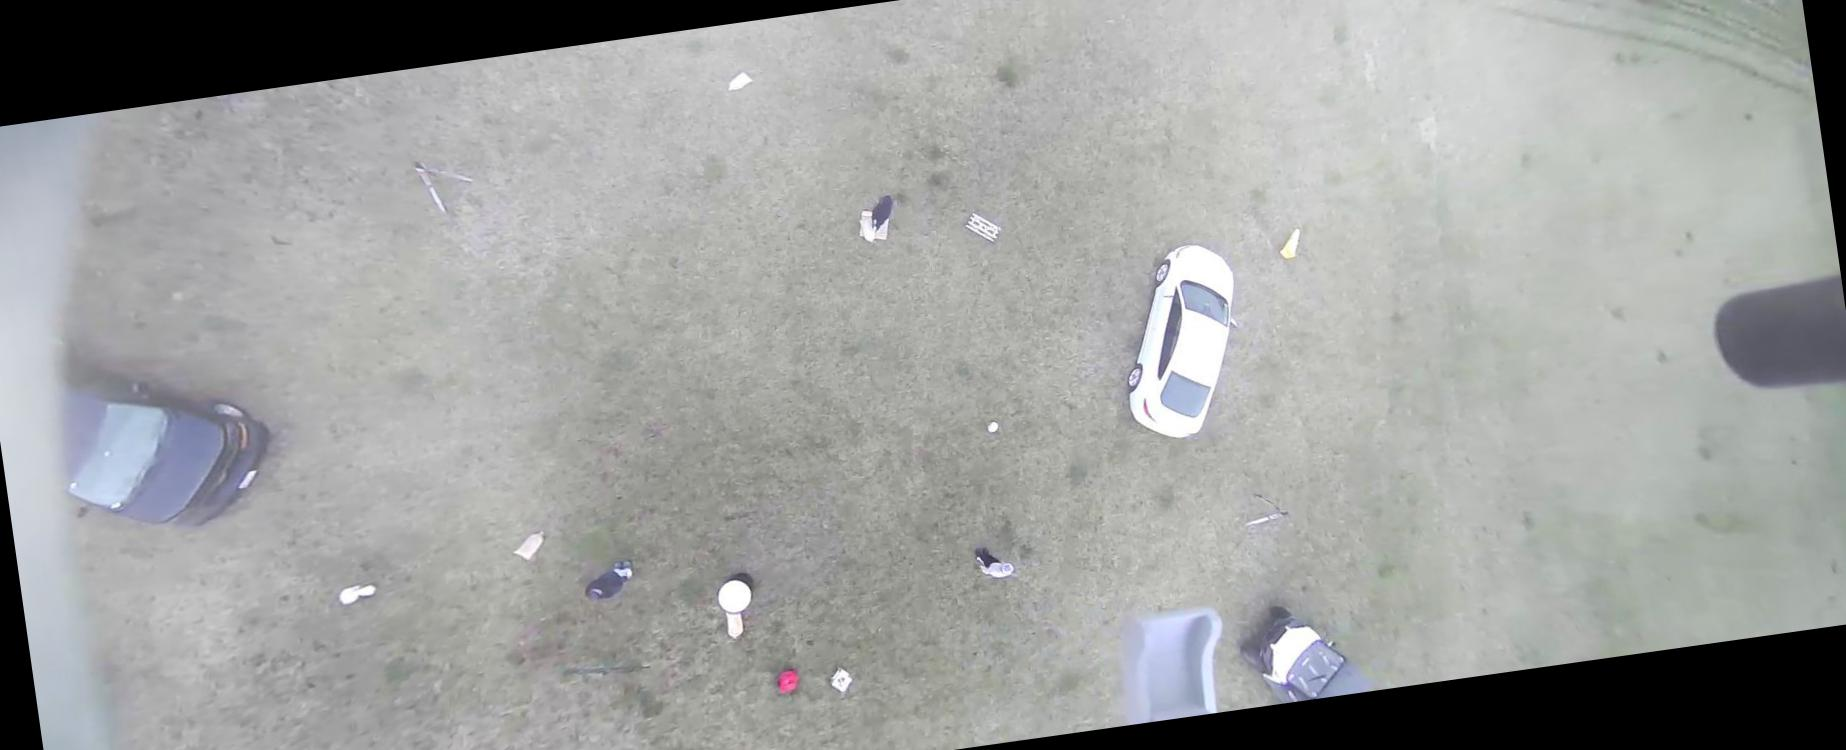vehicle: (34, 308, 280, 547), (1109, 238, 1255, 444), (1234, 593, 1382, 706)
